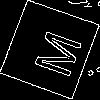M: (24, 24, 84, 80)
